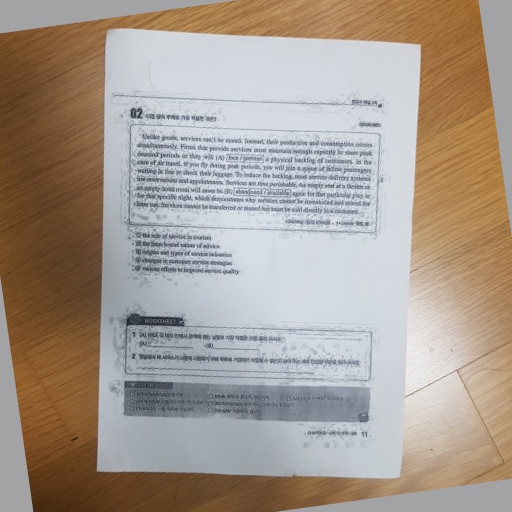Paper_2: (81, 23, 429, 497)
